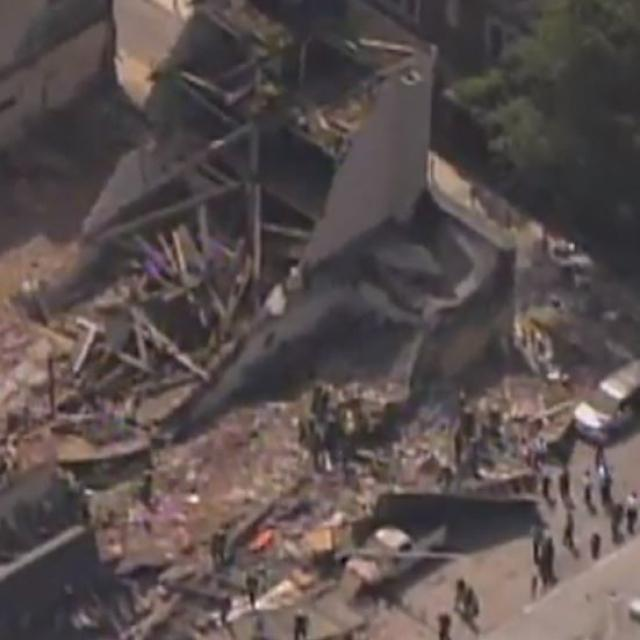collapsed_building: (43, 50, 430, 440)
